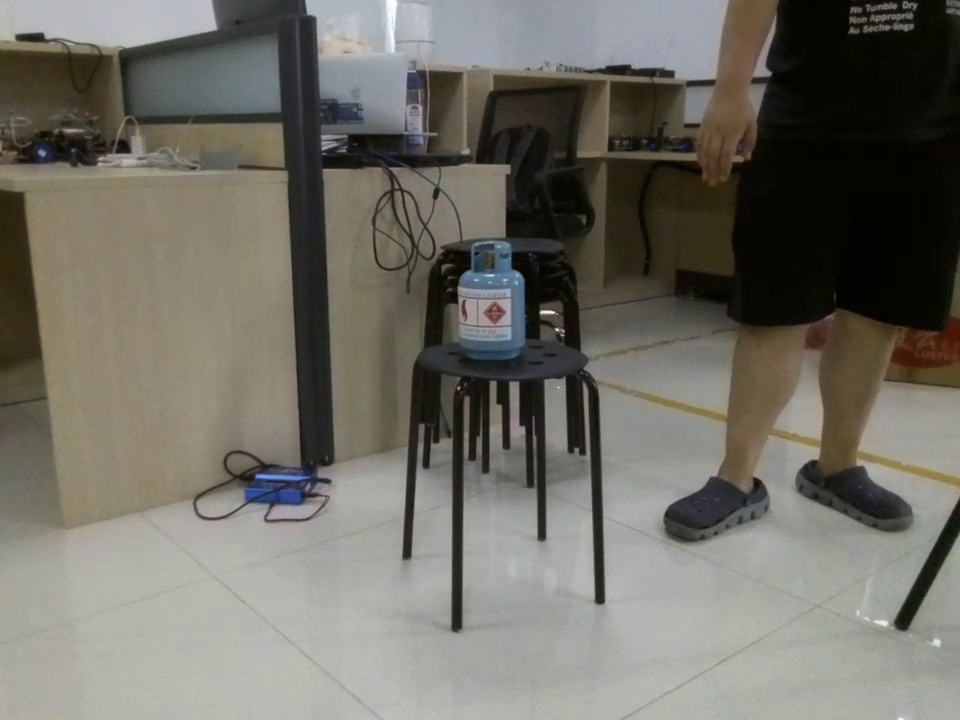gas tank: (452, 238, 532, 365)
